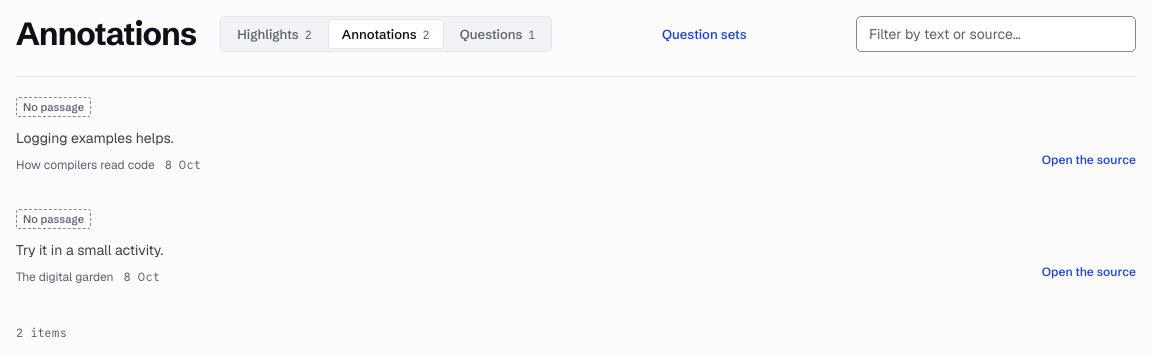
Test: NotesView › filters by the source title as well as by the note text
Type "garden" into the search field with id "notes-filter".
click(996, 34); type("garden")  # box [856, 16, 1136, 52]
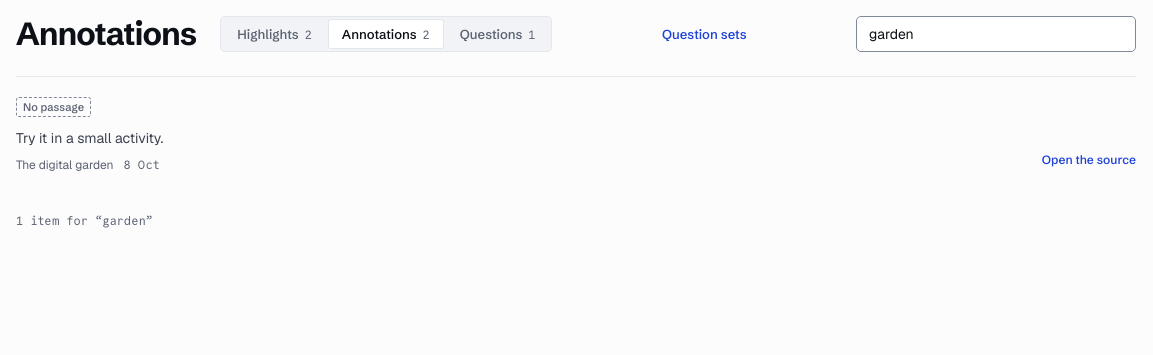
Check: the text "Try it in a small activity." is shown, box [16, 129, 163, 147]
Check: the number of elements with class "notes-annotation" is 1, box [16, 77, 1136, 189]
